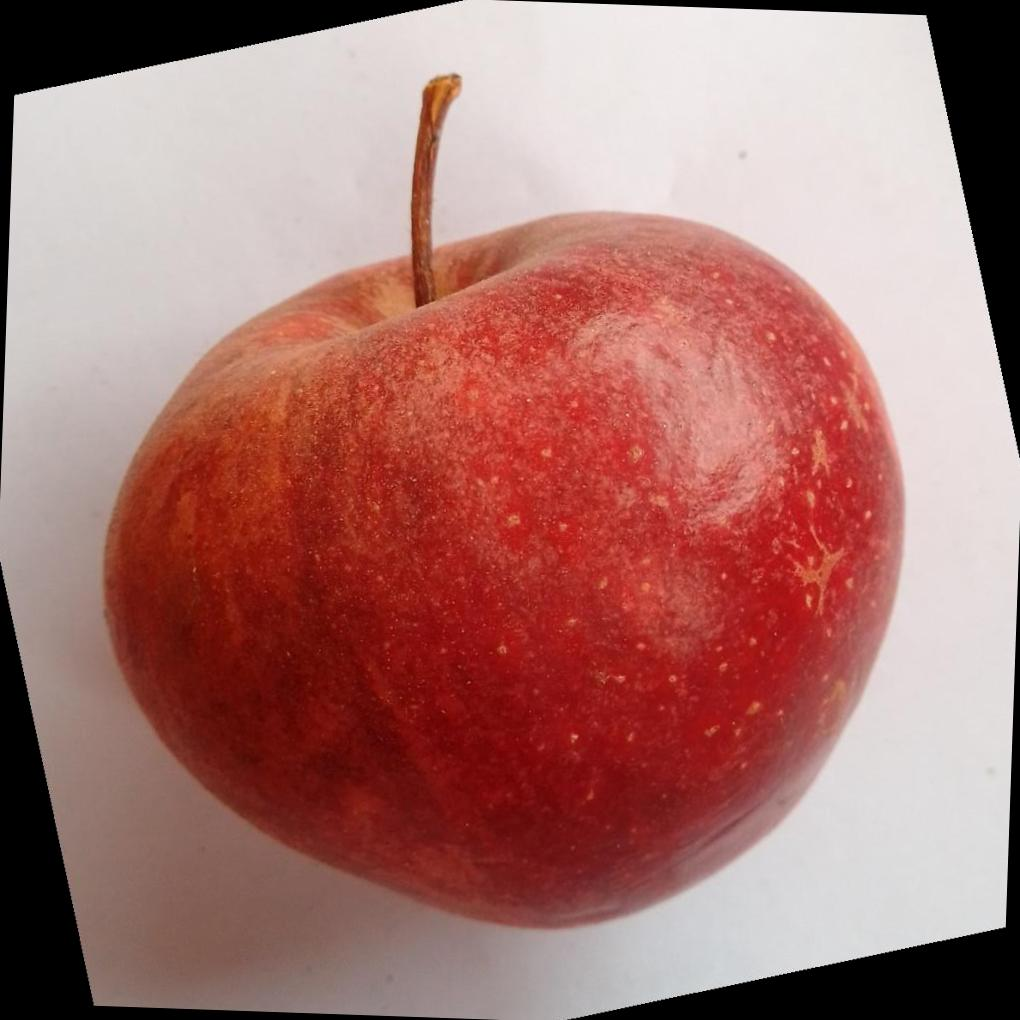FreshGuava: (102, 157, 910, 931)
